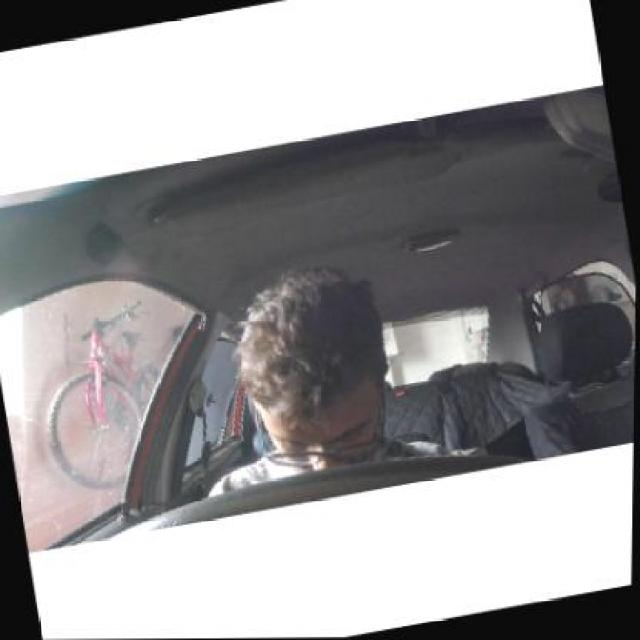drowsy: (216, 273, 397, 489)
